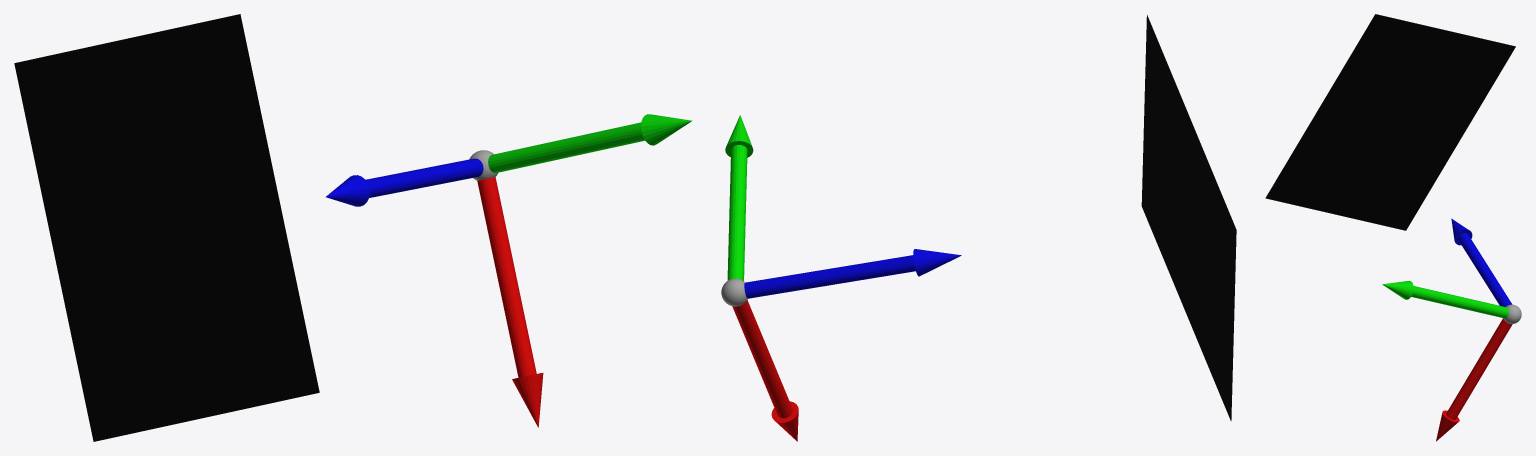
3 views of the same model, side by side, from view 1: azimuth 30°, elevation 25°; view 2: azimuth 150°, elevation 25°; view 3: azimuth 270°, elevation 25° (orthographic). The views are drawn at different scales.
Bounding box in the file's own units: 0.3121 × 0.2759 × 0.1973.
